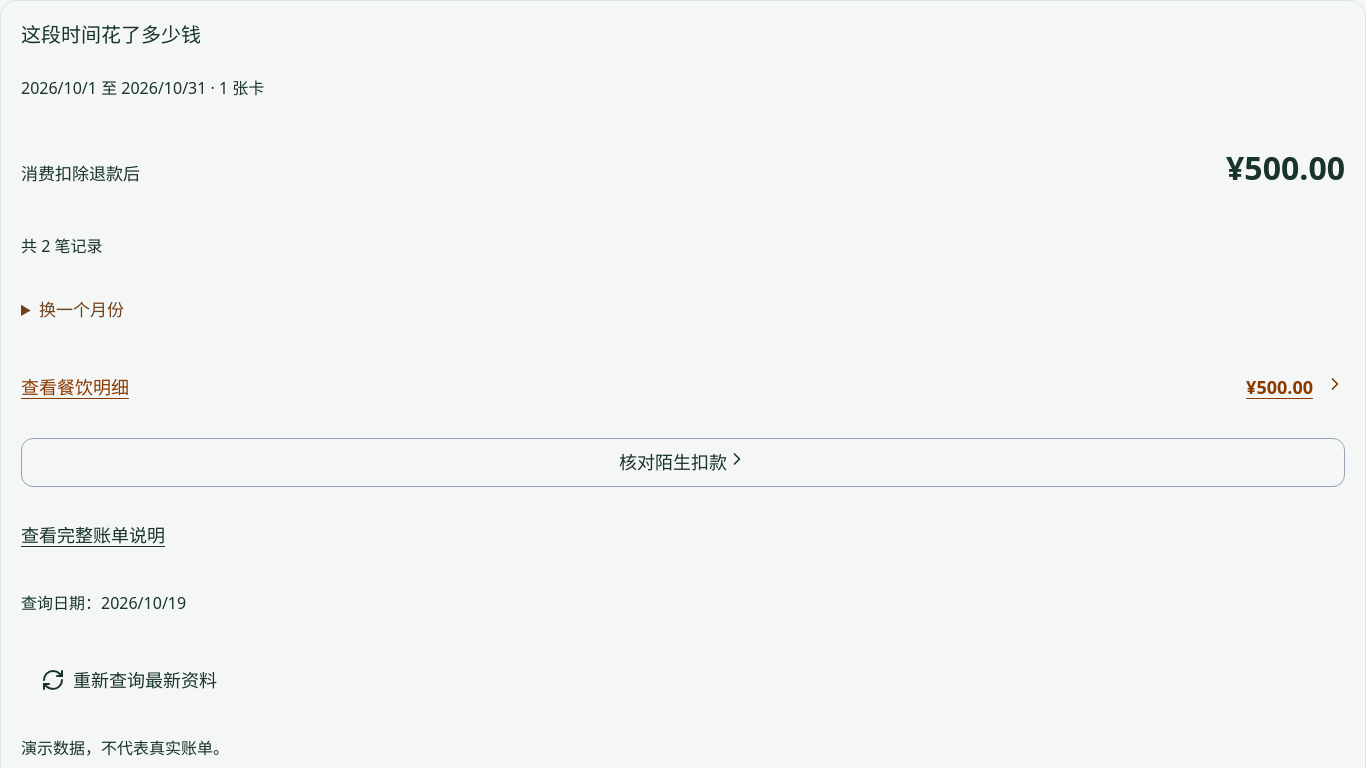
Test case: bills slot › keeps the demo banner when the same report is not from the real API
expect the text "演示数据，不代表真实账单。" is shown: met, box [21, 737, 229, 759]
Click the button "查看完整账单说明" at point(93, 535), box [21, 507, 1345, 563]
(page scrolled)
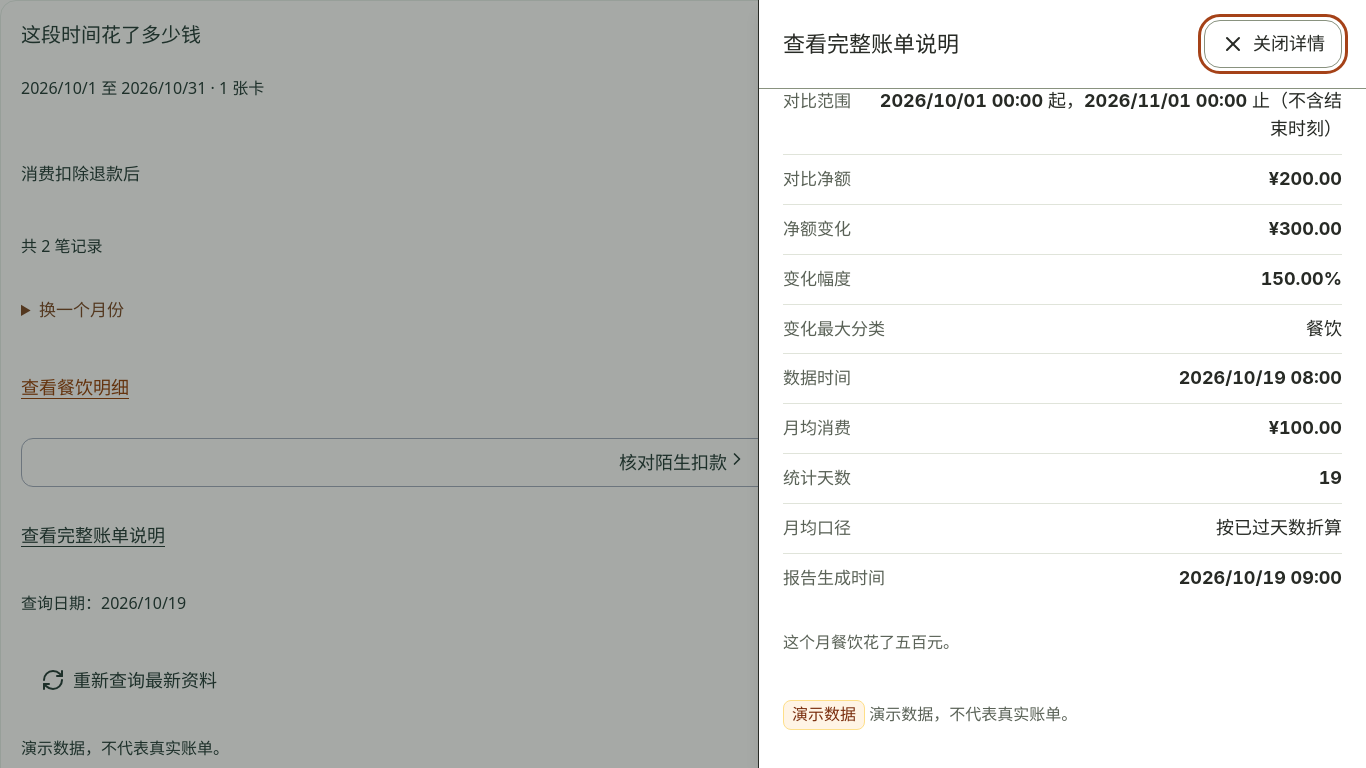
expect the text "¥100.00" is shown: met, box [1269, 414, 1342, 443]
